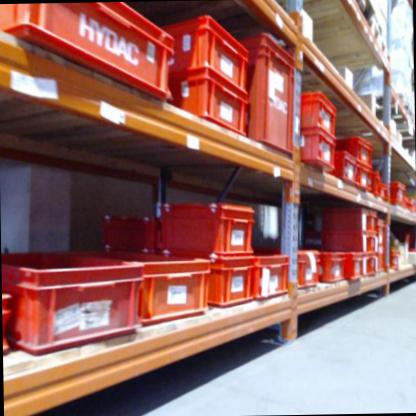pallet: (300, 0, 387, 64)
small_load_carrier: (0, 2, 179, 107), (1, 244, 143, 354), (99, 246, 212, 324), (152, 12, 251, 91), (243, 28, 298, 162), (162, 71, 249, 138), (155, 201, 253, 257), (203, 255, 259, 310), (92, 210, 162, 252), (295, 88, 337, 139), (326, 132, 374, 168), (252, 253, 287, 300), (295, 130, 335, 171), (317, 205, 370, 232), (294, 246, 324, 292), (371, 223, 390, 278), (329, 148, 357, 185), (323, 231, 369, 252), (3, 295, 18, 359), (316, 251, 346, 280), (388, 176, 408, 208), (346, 250, 365, 283), (352, 166, 371, 193), (387, 248, 403, 273), (370, 171, 381, 197), (368, 254, 377, 275), (367, 233, 376, 250), (381, 182, 389, 200), (366, 211, 377, 224)
